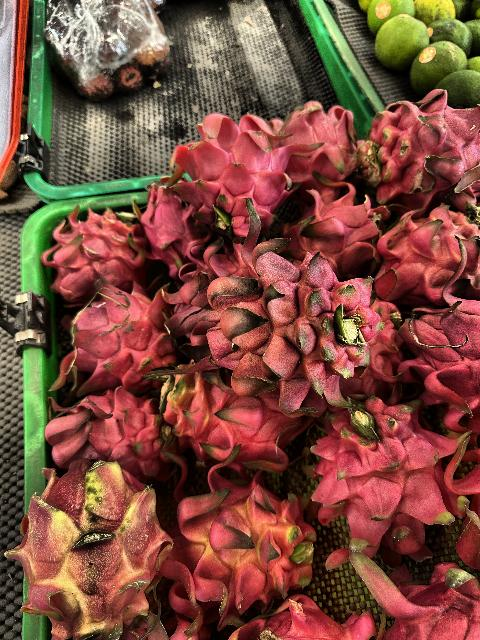buah-naga-belum-matang: (8, 460, 170, 640), (163, 452, 315, 598)
buah-naga-matang: (200, 248, 382, 402), (310, 392, 460, 550), (384, 246, 480, 420), (164, 113, 300, 229), (52, 286, 180, 388), (360, 90, 480, 198), (43, 388, 176, 476), (366, 195, 480, 293), (37, 206, 151, 294), (280, 177, 386, 265), (268, 99, 372, 185), (122, 176, 210, 272)
